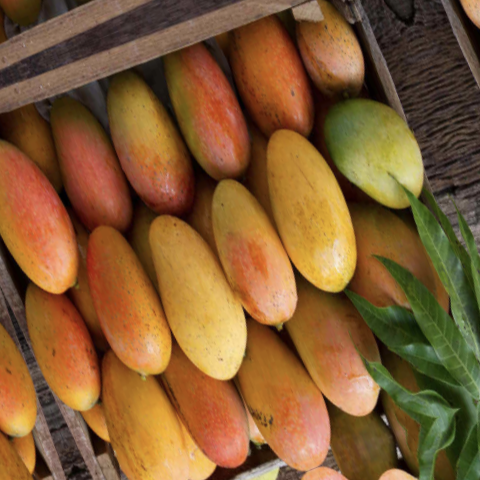mango: (116, 183, 275, 405), (237, 109, 386, 317), (135, 8, 273, 214), (57, 312, 214, 480), (52, 213, 192, 398), (213, 299, 355, 480), (194, 172, 323, 350), (312, 65, 448, 226), (0, 122, 107, 324), (35, 91, 159, 262), (1, 254, 121, 424)
